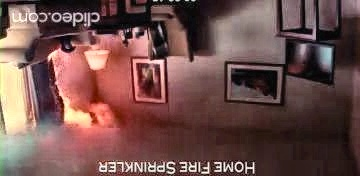fire: (40, 63, 117, 144)
